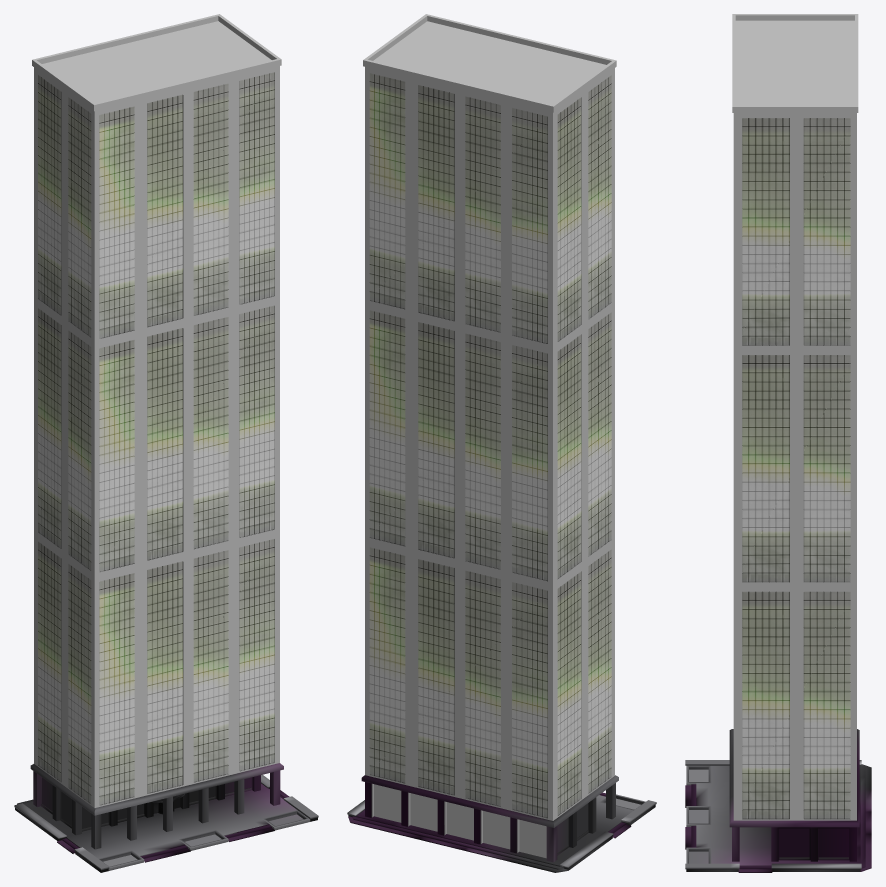
The model's file is downtown_skyscraper_2.FBX.
3 renders of one model, left to right at view 1: azimuth 30°, elevation 25°; view 2: azimuth 150°, elevation 25°; view 3: azimuth 270°, elevation 25°, orthographic.
Visible parts, largest first — view 1: em_win_dwtn_skyscraper_2, downtown_skyscraper_2; view 2: em_win_dwtn_skyscraper_2, downtown_skyscraper_2; view 3: em_win_dwtn_skyscraper_2, downtown_skyscraper_2.
Part boxes in pixels (<box>): em_win_dwtn_skyscraper_2: <box>38,72,274,805</box>; downtown_skyscraper_2: <box>14,14,318,872</box>; em_win_dwtn_skyscraper_2: <box>369,73,611,818</box>; downtown_skyscraper_2: <box>347,14,656,872</box>; em_win_dwtn_skyscraper_2: <box>742,118,850,819</box>; downtown_skyscraper_2: <box>685,14,871,872</box>.
Size of the model in its own units: 262 by 849 by 189.
